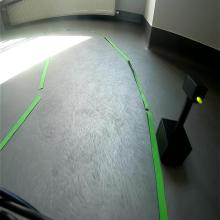green: (181, 73, 208, 104)
